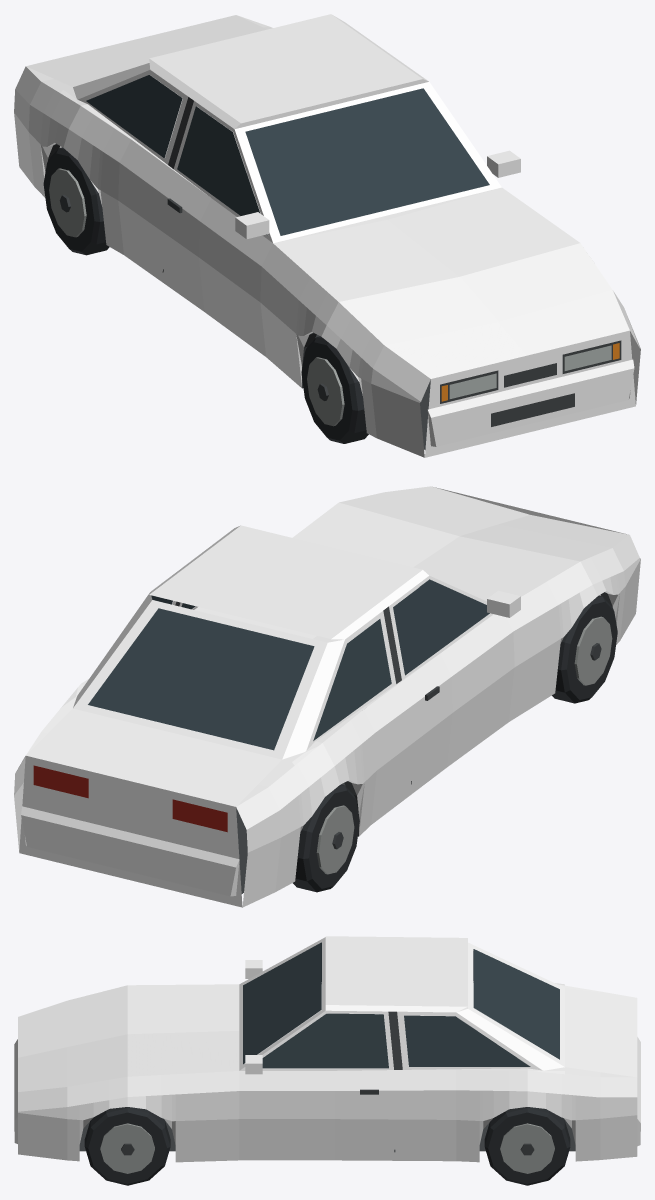
Rendered from kanaya_shizuku.glb.
The picture shows the model from 3 angles, top to bottom: view 1: azimuth 30°, elevation 25°; view 2: azimuth 150°, elevation 25°; view 3: azimuth 270°, elevation 25°; orthographic projection. The views are drawn at different scales.
Visible parts, largest first — view 1: kanaya_shizuku; view 2: kanaya_shizuku; view 3: kanaya_shizuku.
Part boxes in pixels (left/top/right/bottom): kanaya_shizuku: left=14, top=14, right=640, bottom=457; kanaya_shizuku: left=14, top=486, right=640, bottom=907; kanaya_shizuku: left=14, top=936, right=640, bottom=1185.
Bounding box in the file's own units: 1.7 × 1.26 × 4.31.
8 materials, 1 textured.
